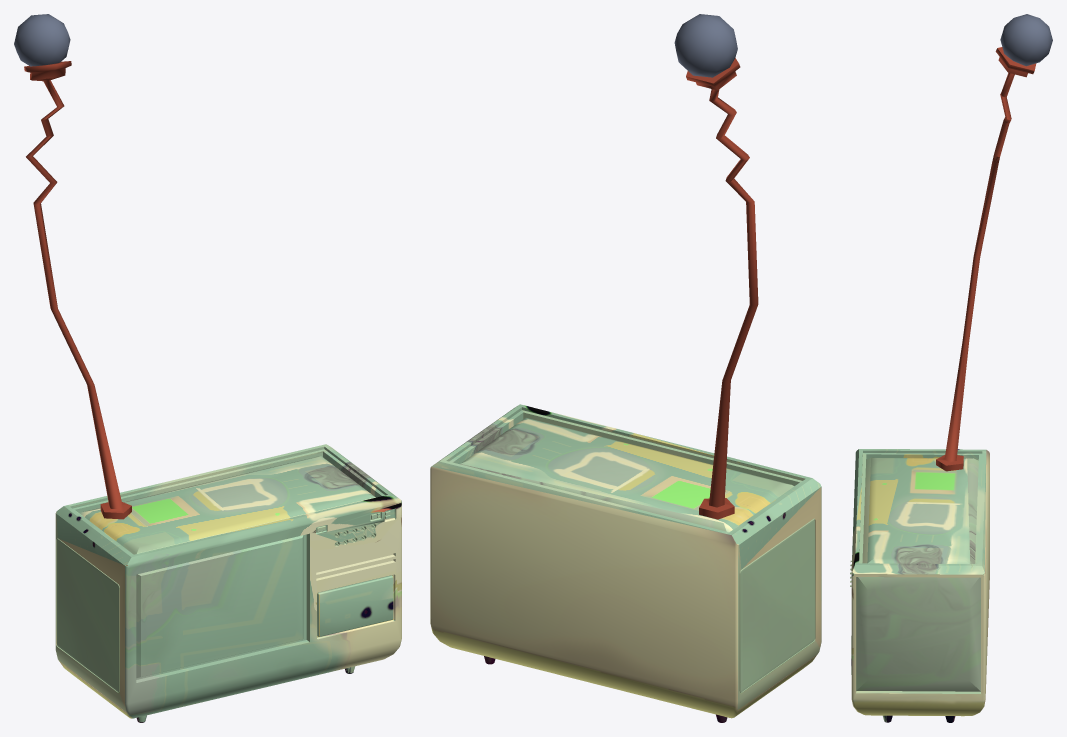
File: detectorRadiacion.fbx
The picture shows the model from 3 angles, left to right: view 1: azimuth 30°, elevation 25°; view 2: azimuth 150°, elevation 25°; view 3: azimuth 270°, elevation 25°; orthographic projection. The views are drawn at different scales.
Visible parts, largest first — view 1: tv, Cylinder, Icosphere; view 2: tv, Cylinder, Icosphere; view 3: tv, Cylinder, Icosphere.
Boxes of the visible parts, box(x1,y1,x2,y2) form: tv: box(55, 444, 401, 722); Cylinder: box(24, 61, 131, 519); Icosphere: box(14, 14, 70, 66); tv: box(430, 404, 821, 722); Cylinder: box(686, 58, 758, 519); Icosphere: box(674, 14, 737, 77); tv: box(850, 449, 989, 722); Cylinder: box(936, 47, 1036, 471); Icosphere: box(1000, 14, 1052, 66).
Bounding box in the file's own units: 374 × 798 × 244.
